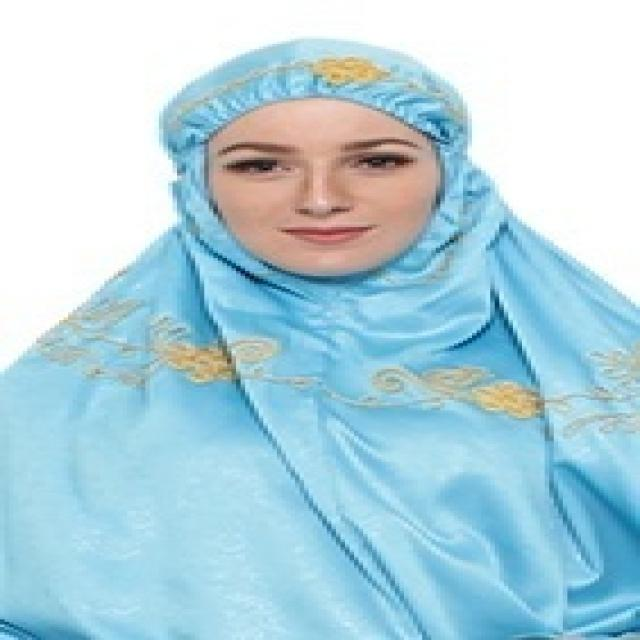head: (154, 38, 477, 288)
